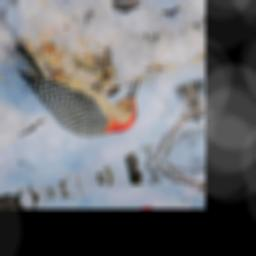Woodpecker: (7, 7, 151, 157)
